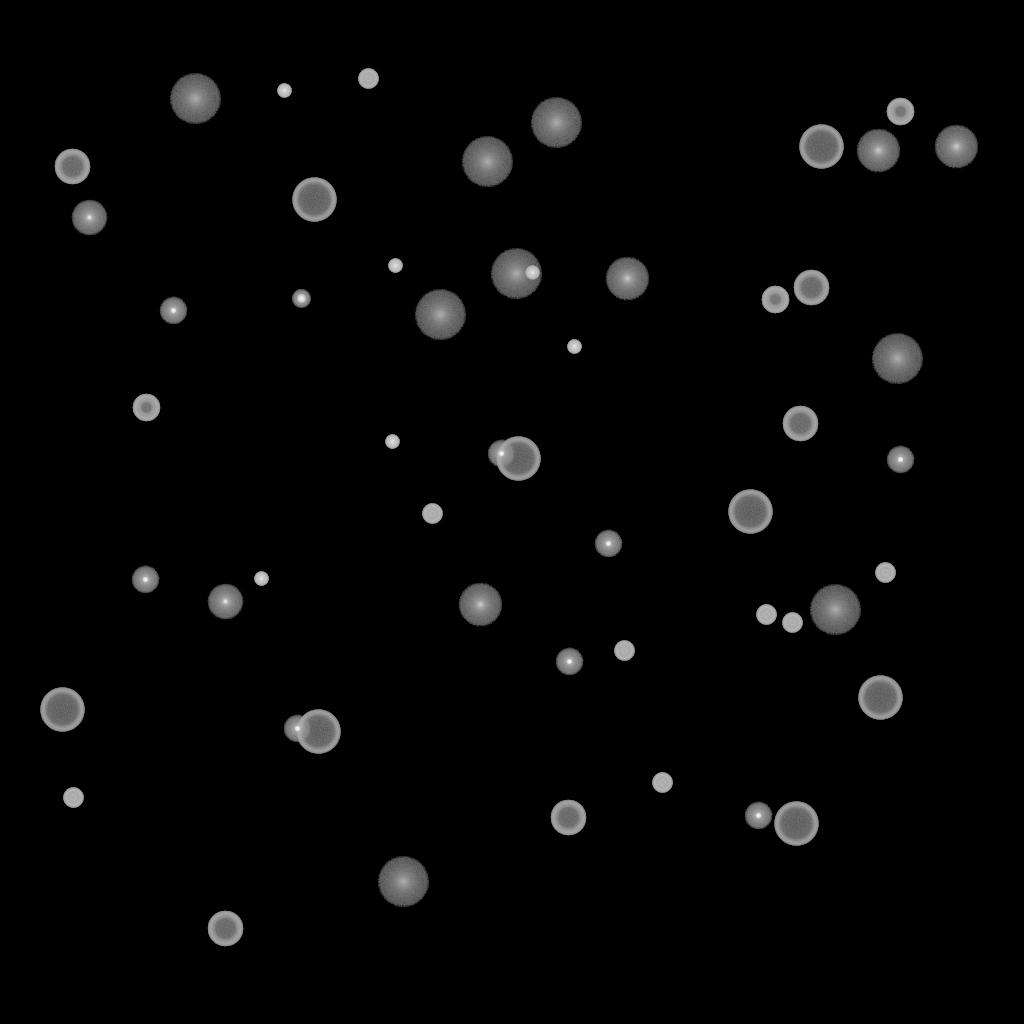depth:-10: (131, 566, 159, 594), (594, 530, 622, 558), (886, 446, 914, 474), (159, 297, 187, 325), (283, 715, 311, 743), (555, 648, 583, 676), (744, 802, 772, 830), (487, 440, 515, 468)
depth:-20: (292, 290, 310, 308)
depth:-30: (388, 259, 402, 273), (385, 435, 399, 449), (277, 84, 291, 98), (567, 340, 581, 354), (525, 266, 539, 280), (254, 572, 268, 586)
depth:-40: (782, 613, 802, 633), (63, 788, 83, 808), (652, 773, 672, 793), (875, 563, 895, 583), (422, 504, 442, 524), (358, 69, 378, 89), (614, 641, 634, 661), (756, 605, 776, 625)
depth:-50: (132, 394, 160, 422), (886, 98, 914, 126), (761, 286, 789, 314)
depth:-60: (793, 270, 829, 306), (207, 911, 243, 947), (54, 149, 90, 185), (550, 800, 586, 836), (782, 406, 818, 442)
depth:-70: (40, 688, 84, 732), (799, 125, 843, 169), (858, 676, 902, 720), (296, 710, 340, 754), (728, 490, 772, 534), (292, 178, 336, 222), (774, 802, 818, 846), (496, 437, 540, 481)
depth:0: (71, 200, 107, 236), (207, 584, 243, 620)
depth:10: (856, 129, 900, 173), (458, 583, 502, 627), (934, 125, 978, 169), (605, 257, 649, 301)
depth:20: (169, 74, 221, 124), (414, 290, 466, 340), (530, 98, 582, 148), (871, 334, 923, 384), (461, 137, 513, 187), (377, 857, 429, 907), (809, 585, 861, 635), (490, 249, 542, 299)
